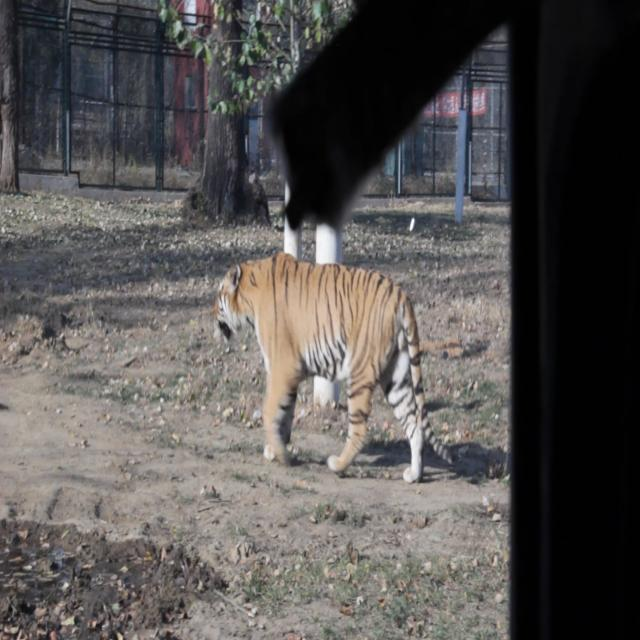Tiger: (202, 236, 452, 488)
